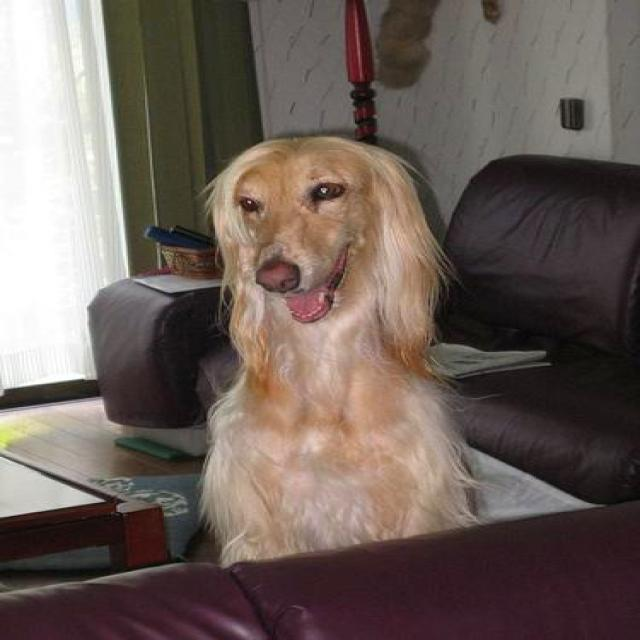afghan_hound: (200, 138, 474, 570)
